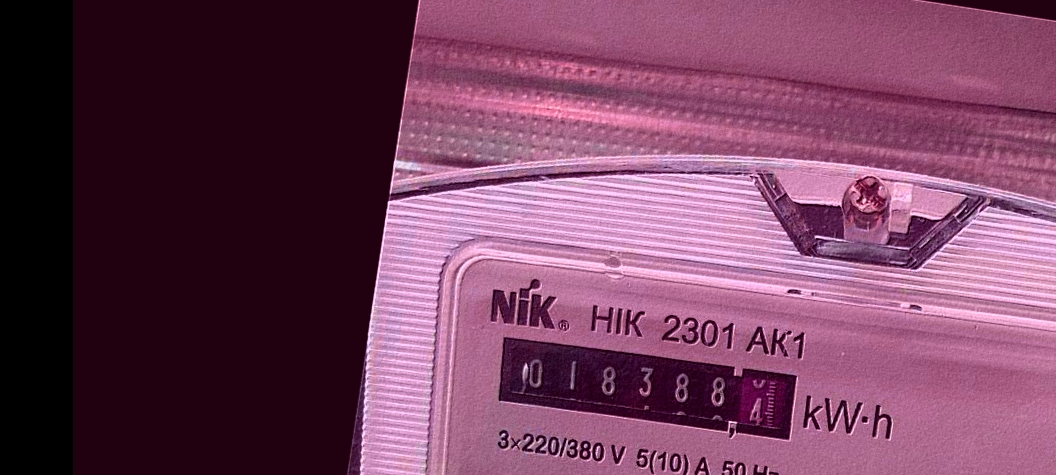0: (524, 354, 549, 393)
1: (562, 355, 585, 394)
3: (635, 364, 660, 402)
4: (745, 393, 770, 428)
8: (596, 361, 623, 400), (706, 373, 732, 412), (670, 370, 695, 408)
screen: (485, 321, 813, 458)
